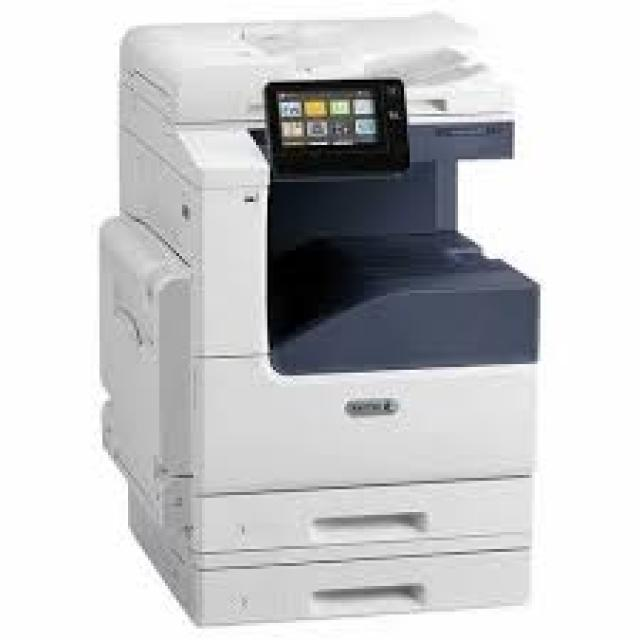printer: (97, 8, 540, 626)
